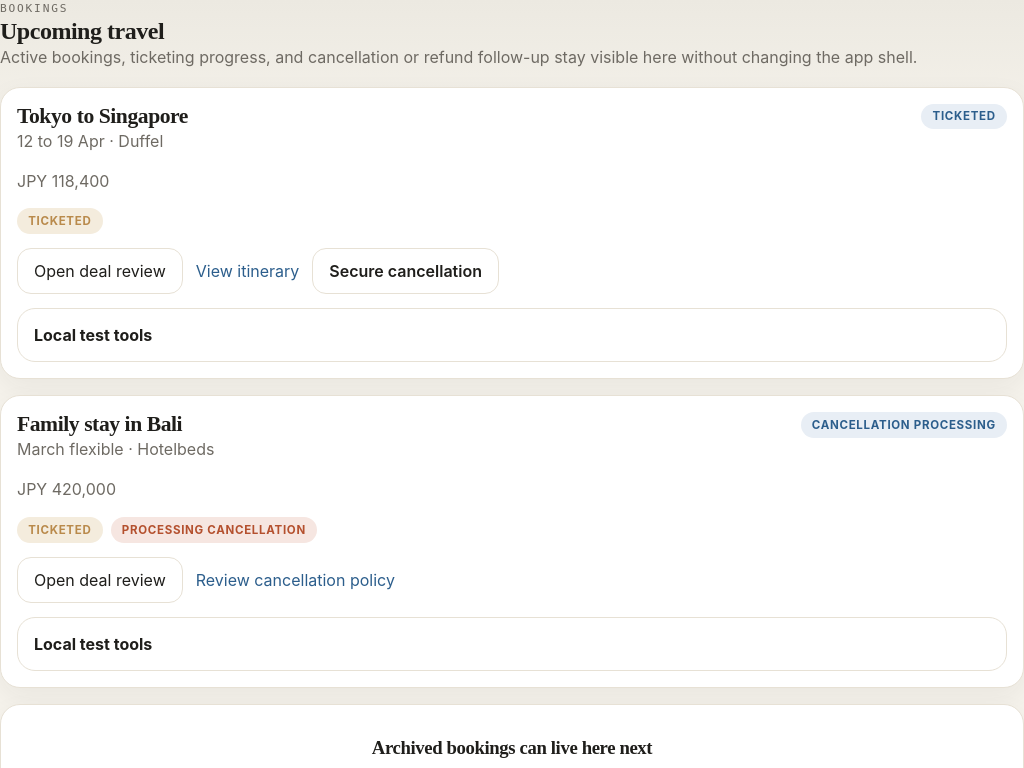
it: BookingsPage local test tools › requires signed token, TOTP, master key, and stable idempotency for cancellation
Click the button "Secure cancellation".
click(406, 271)  # box [312,248,499,294]
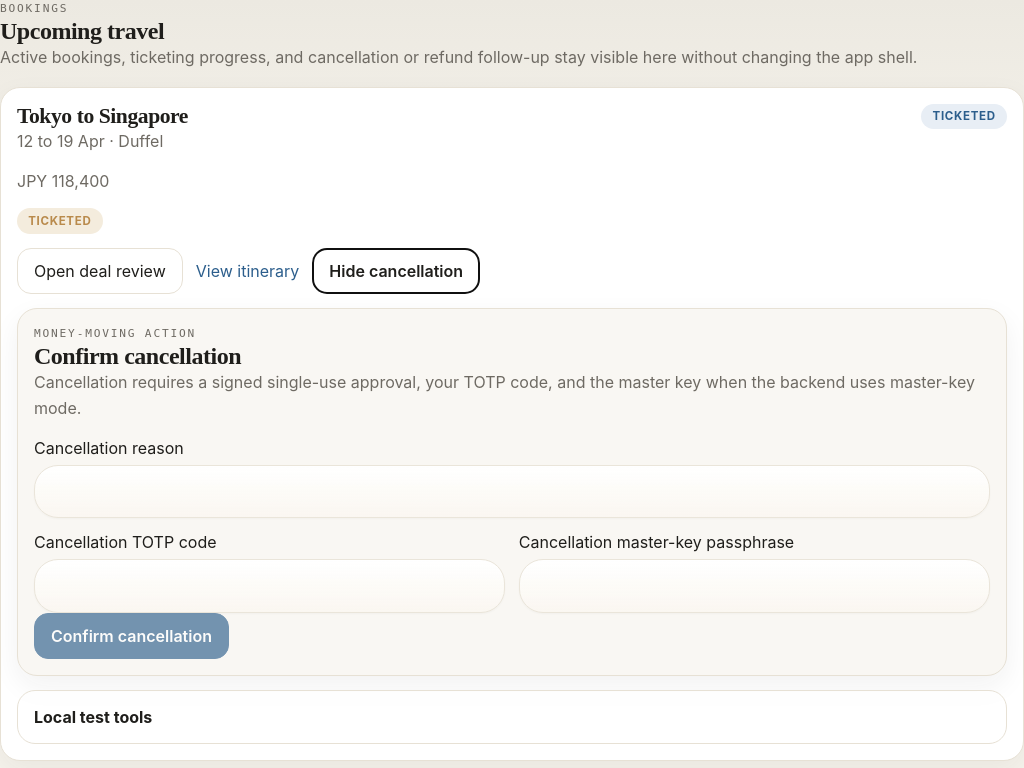
Type "Changed plans" into the field labelled "Cancellation reason".
click(512, 492); type("Changed plans")  # box [34,465,990,518]
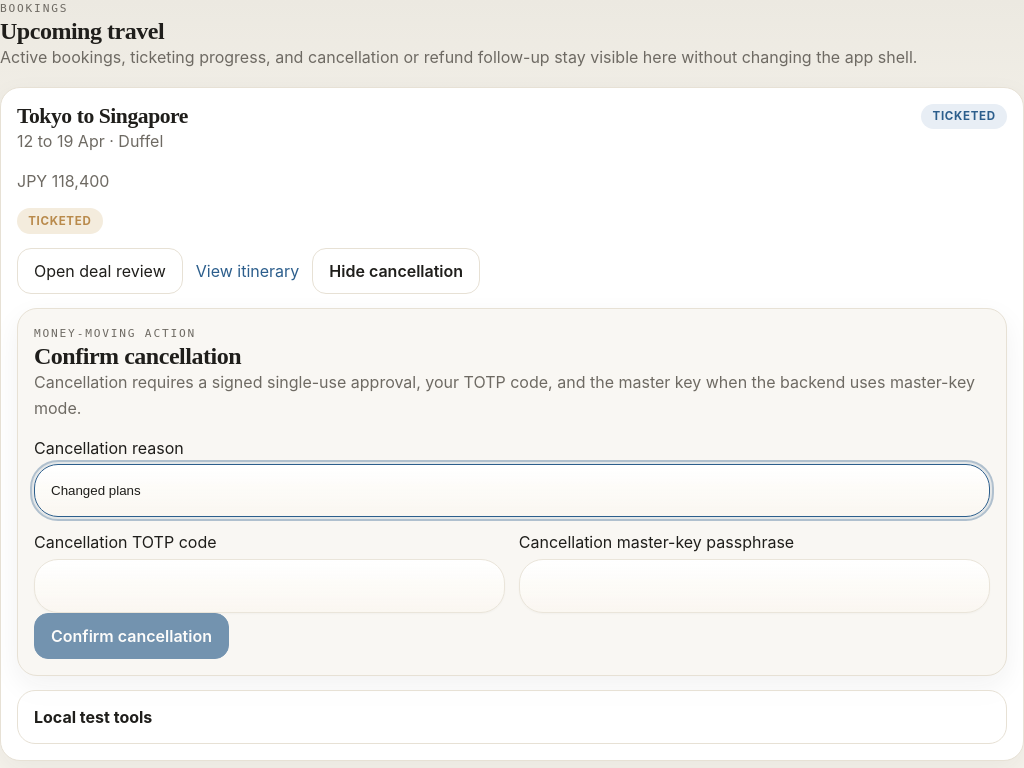
Type "123456" into the field labelled "Cancellation TOTP code".
click(270, 586); type("123456")  # box [34,559,505,613]
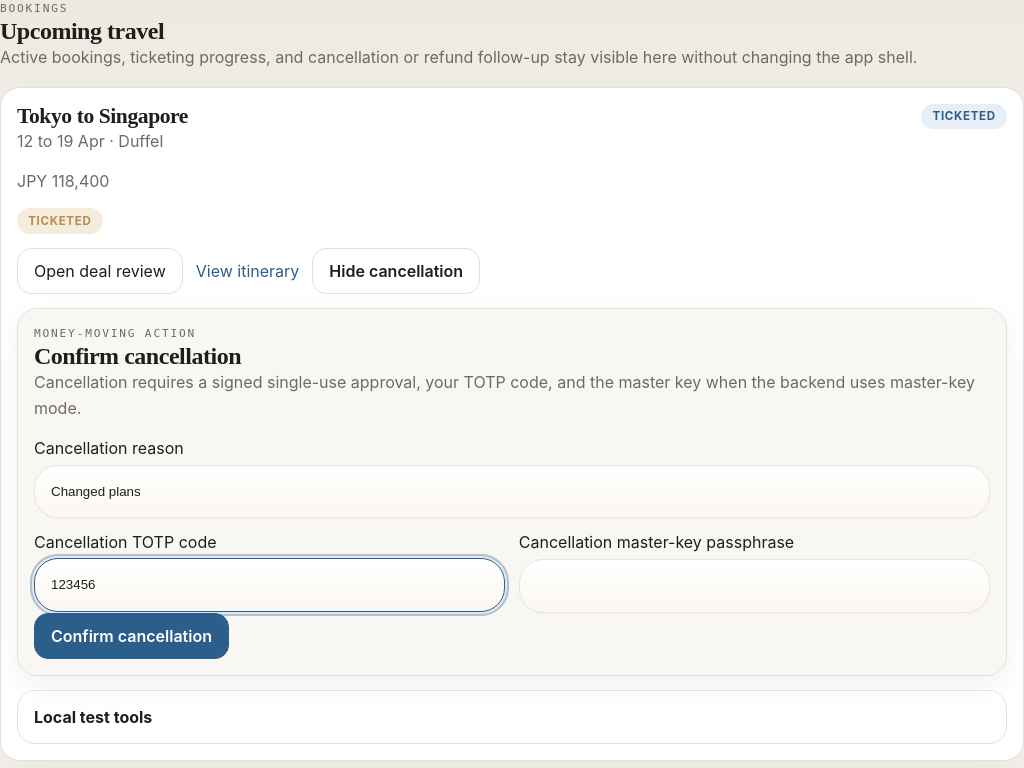
Type "master-secret" into the password field labelled "Cancellation master-key passphrase".
click(754, 586); type("master-secret")  # box [519,559,990,613]
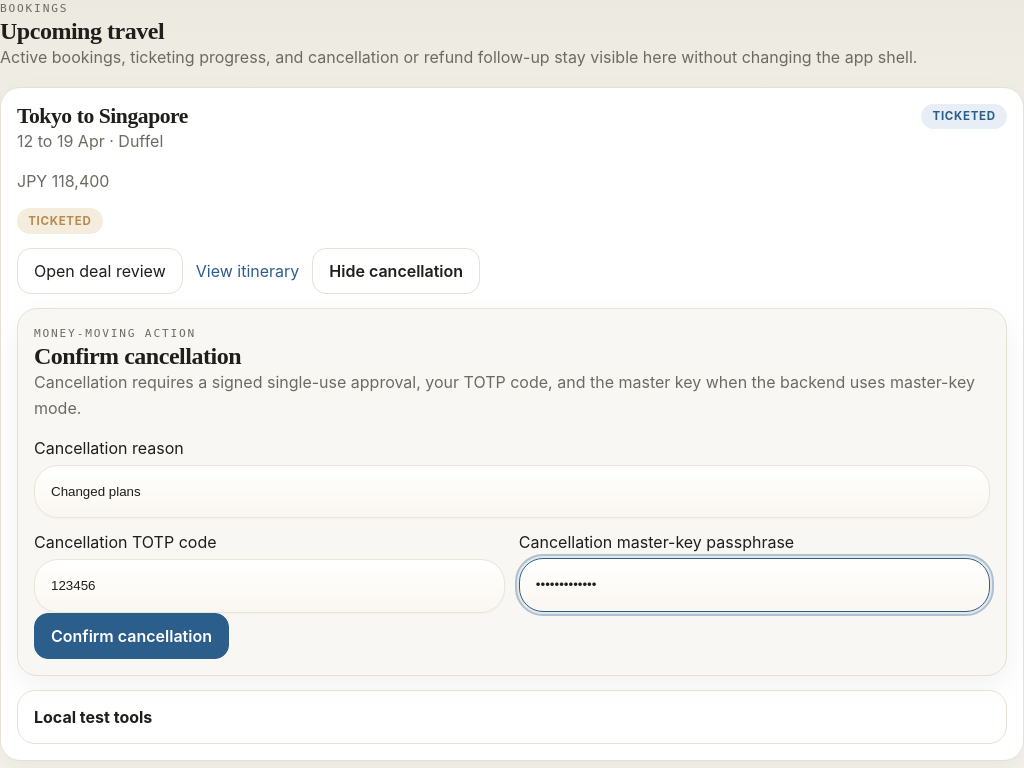
Click the button "Confirm cancellation".
click(131, 636)  # box [34,613,229,659]
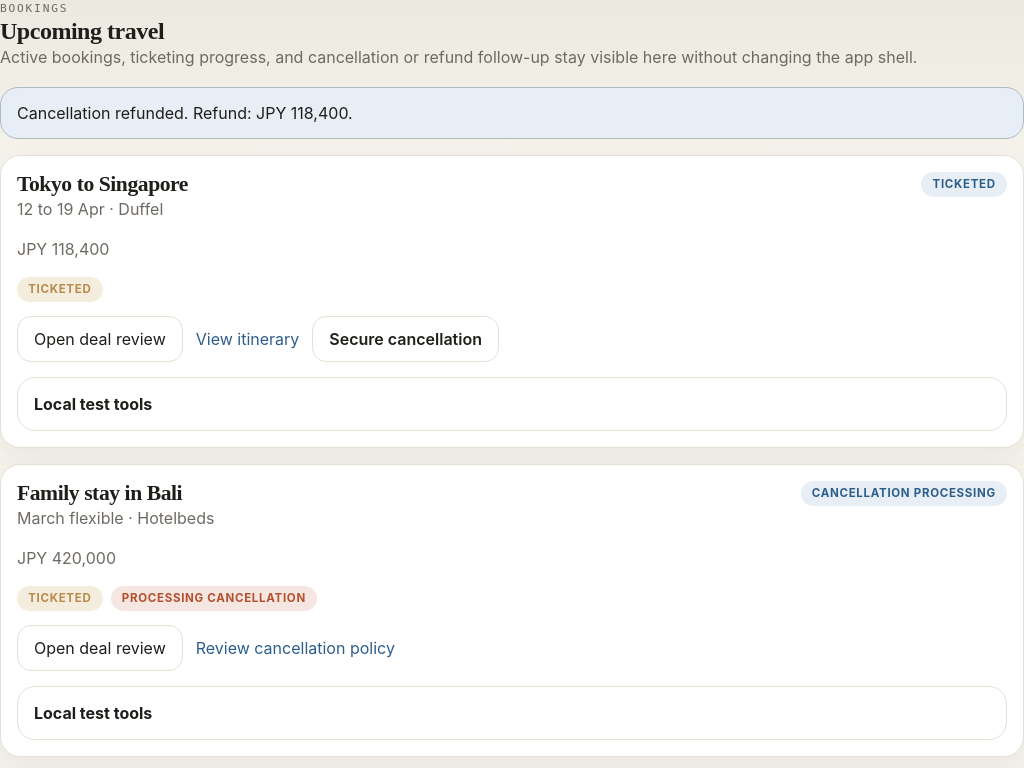
Expected: the message shows "Cancellation refunded", [17,103,353,123]
